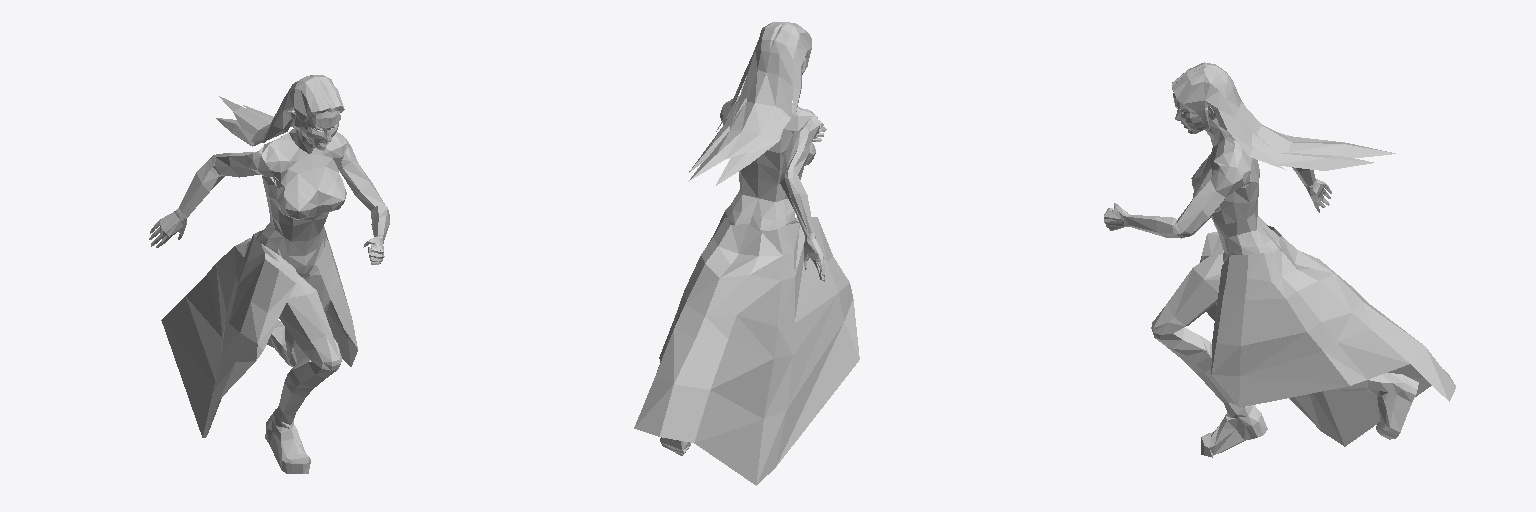
File: running_014.obj
3 views of the same model, side by side, from view 1: azimuth 30°, elevation 25°; view 2: azimuth 150°, elevation 25°; view 3: azimuth 270°, elevation 25° (orthographic).
Parts seen in each view (by area): view 1: Plane.001_Plane.007, Plane.003_Plane.008, capelli.001_Plane.006; view 2: Plane.003_Plane.008, capelli.001_Plane.006, Plane.001_Plane.007; view 3: Plane.003_Plane.008, Plane.001_Plane.007, capelli.001_Plane.006.
Boxes of the visible parts, box(x1,y1,x2,y2) form: Plane.001_Plane.007: box(149, 90, 389, 473); Plane.003_Plane.008: box(161, 230, 357, 437); capelli.001_Plane.006: box(216, 75, 344, 146); Plane.003_Plane.008: box(634, 206, 859, 485); capelli.001_Plane.006: box(688, 22, 811, 185); Plane.001_Plane.007: box(660, 61, 826, 455); Plane.003_Plane.008: box(1200, 225, 1455, 446); Plane.001_Plane.007: box(1104, 73, 1418, 457); capelli.001_Plane.006: box(1172, 62, 1395, 170).
Bounding box in the file's own units: 2.11 × 4.97 × 3.95.